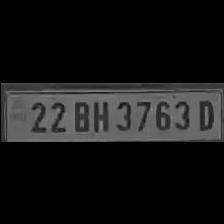2: (25, 97, 47, 132), (46, 97, 66, 132)
3: (111, 97, 132, 131), (171, 96, 191, 130)
6: (150, 97, 170, 131)
7: (132, 96, 150, 132)
B: (68, 96, 90, 132)
D: (194, 96, 216, 130)
H: (90, 96, 110, 132)
